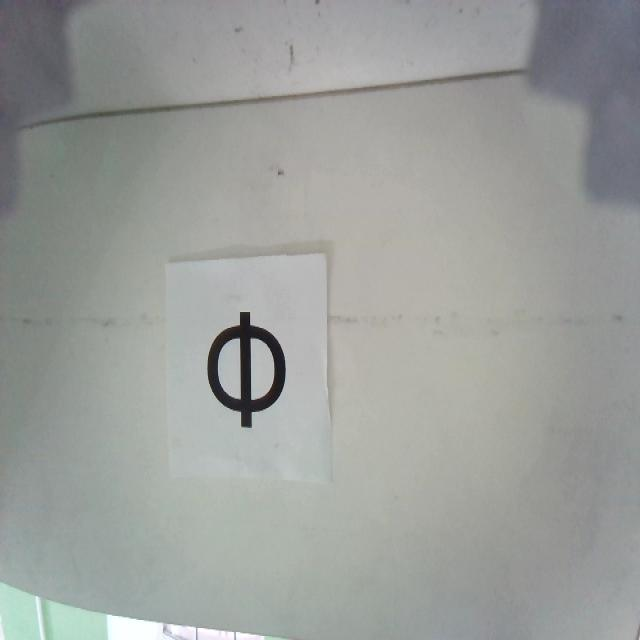F: (207, 311, 287, 429)
